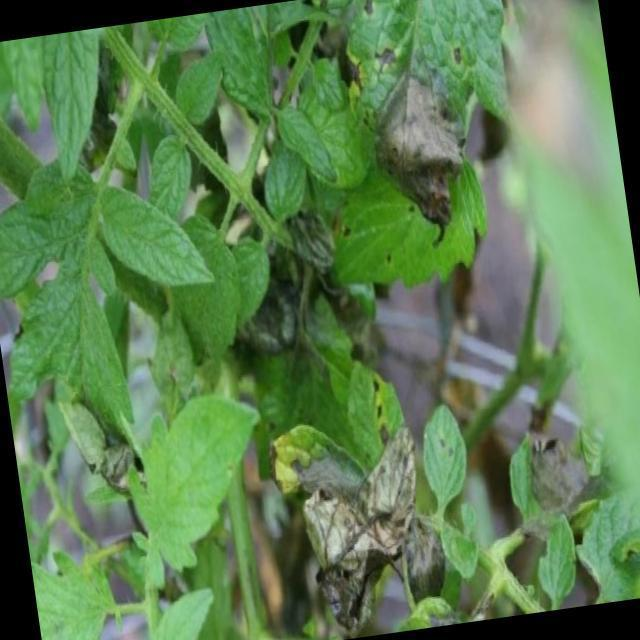Healthy Leaf: (118, 377, 280, 582), (91, 180, 217, 309)
